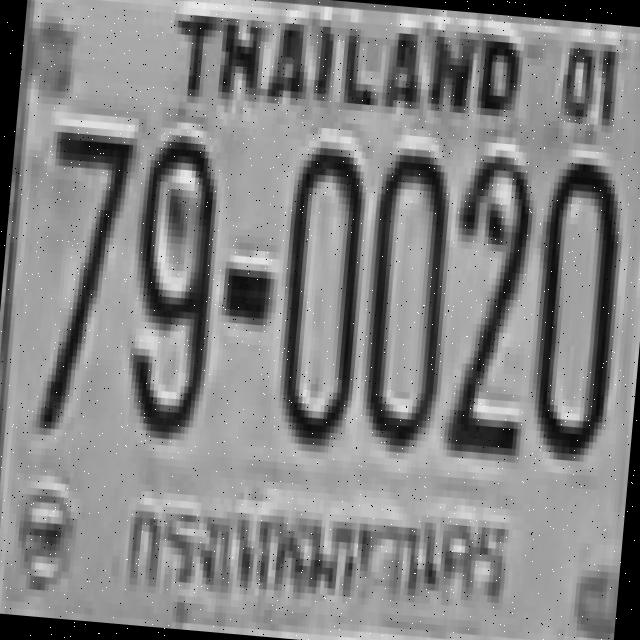0: (268, 139, 370, 447), (523, 154, 625, 456), (355, 140, 454, 448)
2: (439, 146, 537, 448)
7: (28, 121, 134, 430)
9: (120, 126, 222, 434)
Bangkok: (113, 487, 515, 640)
